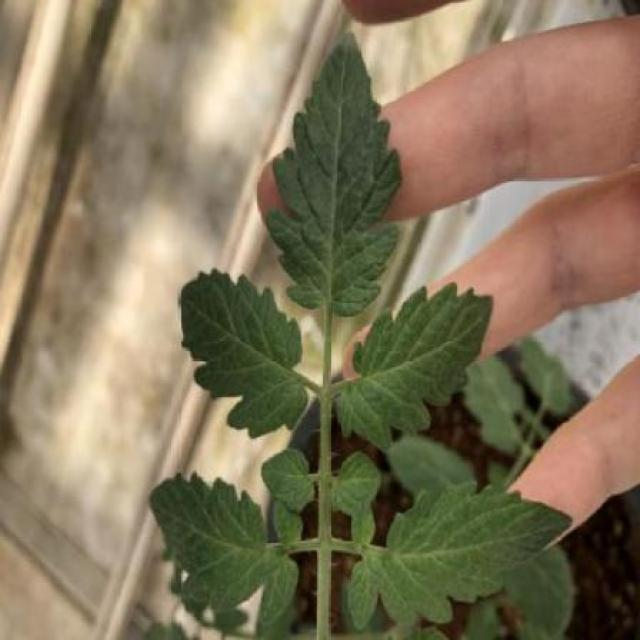Healthy: (267, 32, 402, 318), (349, 480, 574, 630), (336, 282, 493, 452), (148, 473, 303, 624), (180, 270, 310, 440)
